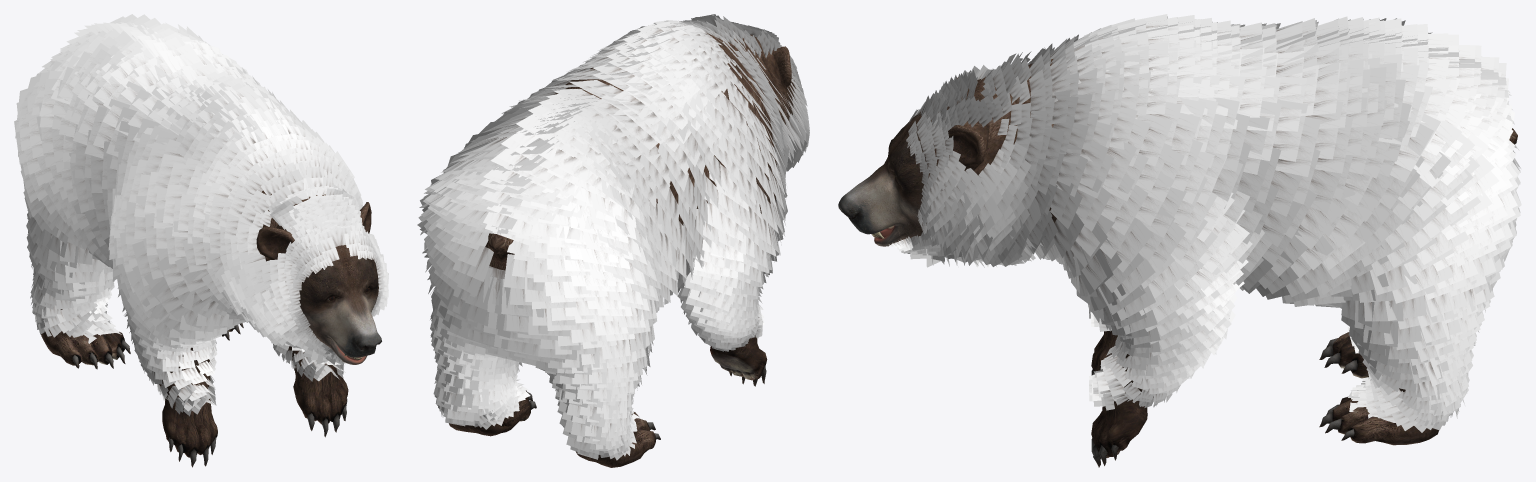
Rendered from Bear_Brown.obj.
The picture shows the model from 3 angles, left to right: view 1: azimuth 30°, elevation 25°; view 2: azimuth 150°, elevation 25°; view 3: azimuth 270°, elevation 25°; orthographic projection. The views are drawn at different scales.
Parts seen in each view (by area): view 1: Bear_Brown, Bear; view 2: Bear_Brown, Bear; view 3: Bear_Brown, Bear.
Part boxes in pixels (x1,y1,x2,y2): Bear_Brown: (14, 14, 388, 416); Bear: (41, 190, 381, 467); Bear_Brown: (417, 14, 809, 460); Bear: (449, 33, 797, 467); Bear_Brown: (889, 14, 1521, 432); Bear: (838, 56, 1517, 467).
Bounding box in the file's own units: 2.04 × 2.91 × 4.43.
Materials: 3 (3 with a texture image).
